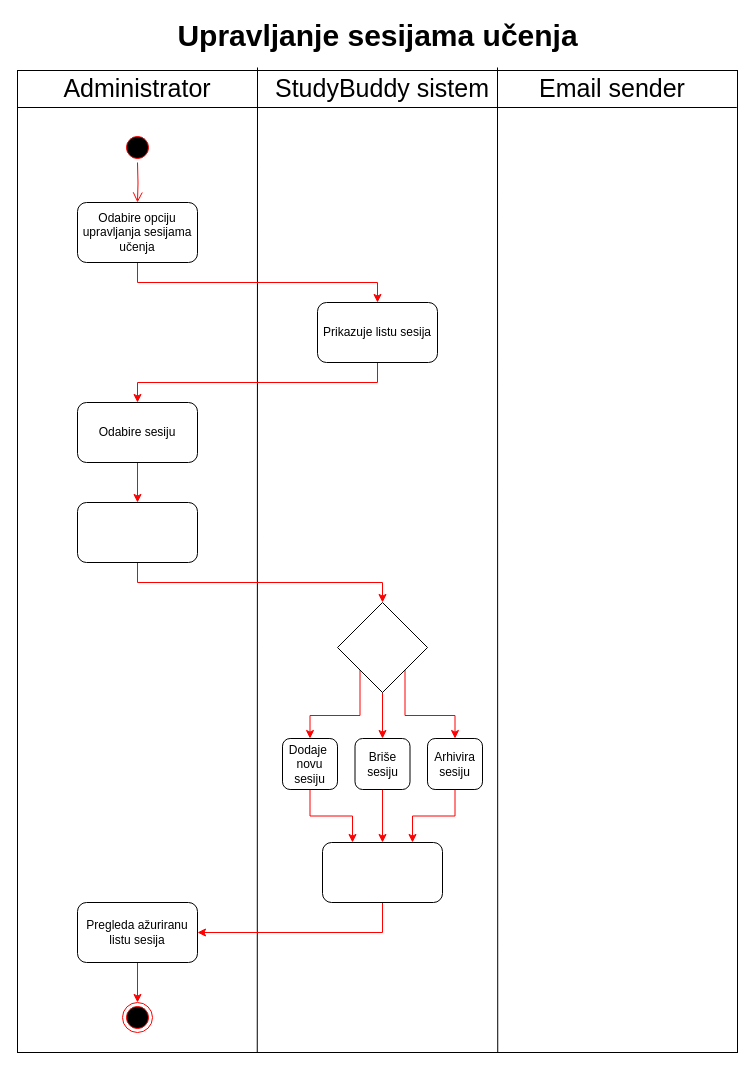
The diagram is 756 pixels wide and 1071 high, and some of its shapes have lost their labels. Each missing label, with the box of its shape:
Ažurira listu sesija: (322, 842, 442, 902)
Bira akciju: (76, 502, 198, 562)
Koja akcija je odabrana?: (336, 602, 428, 692)
